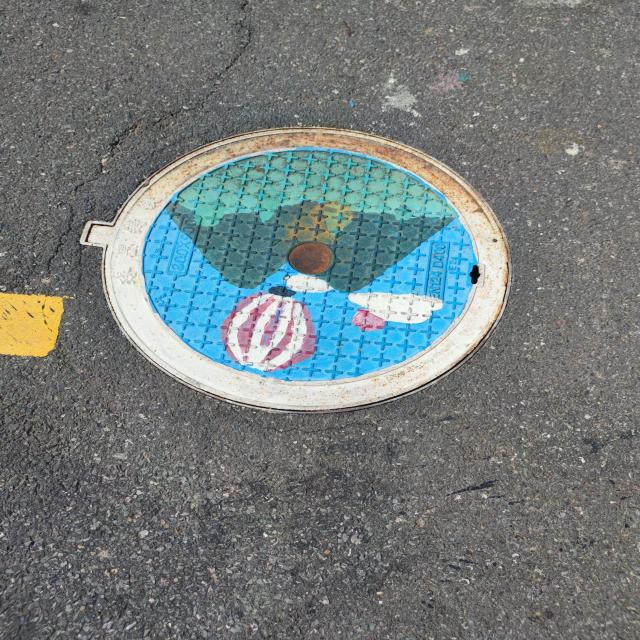Good: (73, 123, 520, 420)
